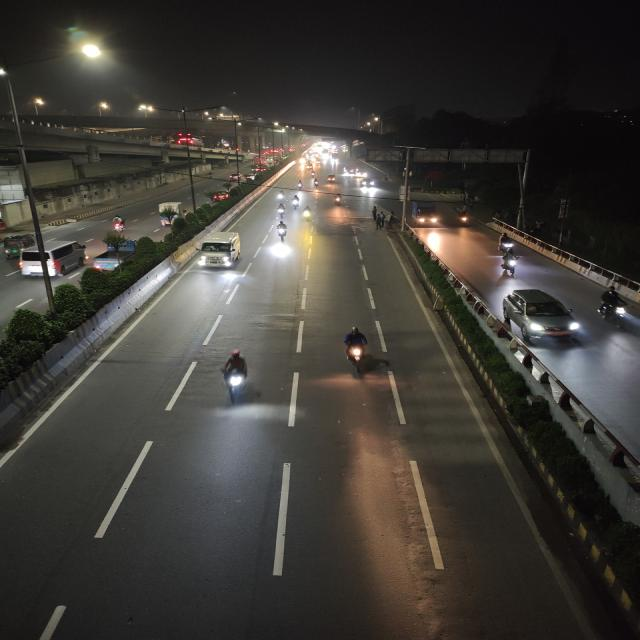car: (498, 286, 586, 350), (18, 237, 92, 281), (194, 229, 245, 273), (206, 188, 232, 203), (359, 178, 377, 189), (226, 173, 244, 183), (244, 173, 256, 183)
cng: (1, 232, 31, 258), (325, 173, 337, 185)
motorcycle: (210, 346, 262, 408), (336, 325, 375, 375), (596, 287, 631, 328), (496, 248, 526, 280), (493, 233, 519, 256), (106, 213, 128, 235), (273, 219, 290, 243), (453, 208, 473, 228), (300, 206, 314, 224), (275, 202, 289, 218), (331, 192, 345, 207), (290, 193, 301, 210), (310, 177, 319, 189), (295, 180, 304, 190)
pedestrian: (373, 207, 385, 229), (384, 210, 396, 230)
pickup_van: (92, 244, 139, 274)
truck: (409, 199, 442, 229)
